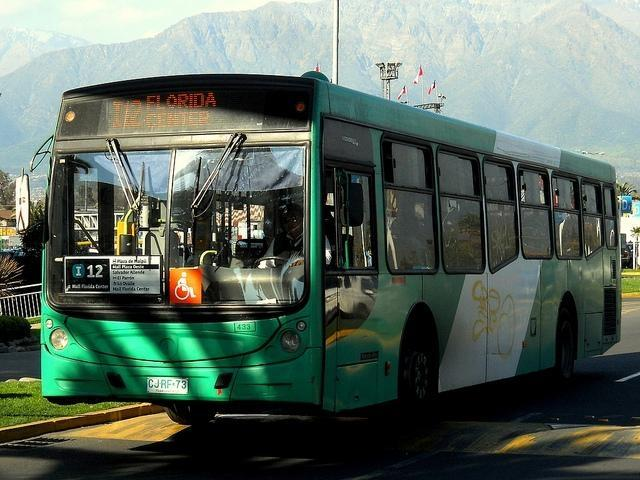bus: (36, 78, 622, 453)
